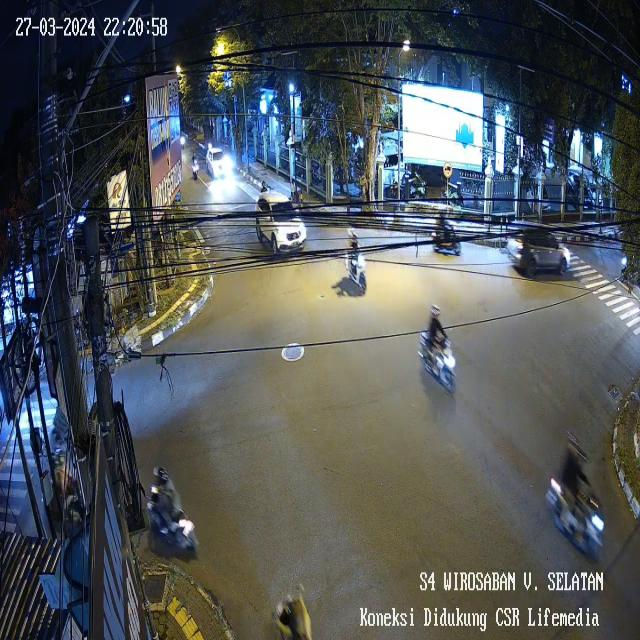car: (505, 220, 575, 284), (253, 187, 308, 268), (202, 144, 237, 187)
motorcycle: (545, 432, 607, 569), (143, 451, 203, 560), (418, 299, 459, 399), (265, 581, 319, 640), (344, 228, 370, 298), (430, 209, 462, 262), (190, 149, 202, 187)
